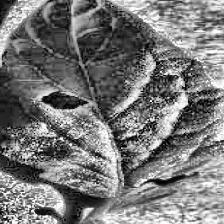disease: (0, 0, 224, 196)
